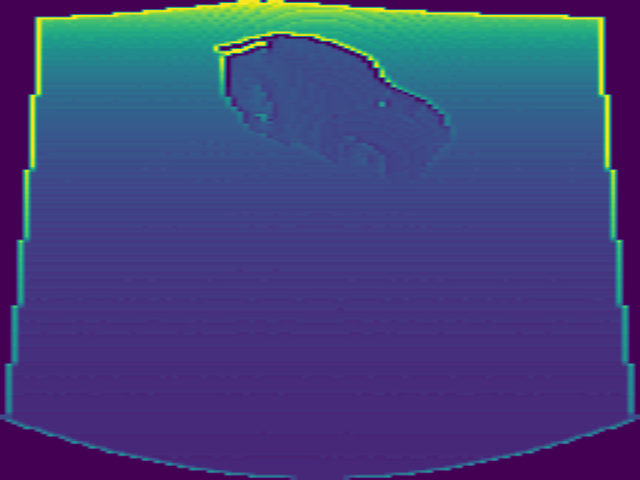car_0027: (218, 30, 453, 180)
